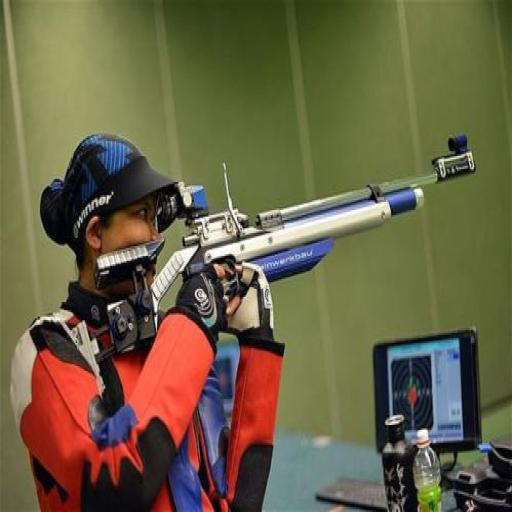shooting: (32, 92, 479, 467)
